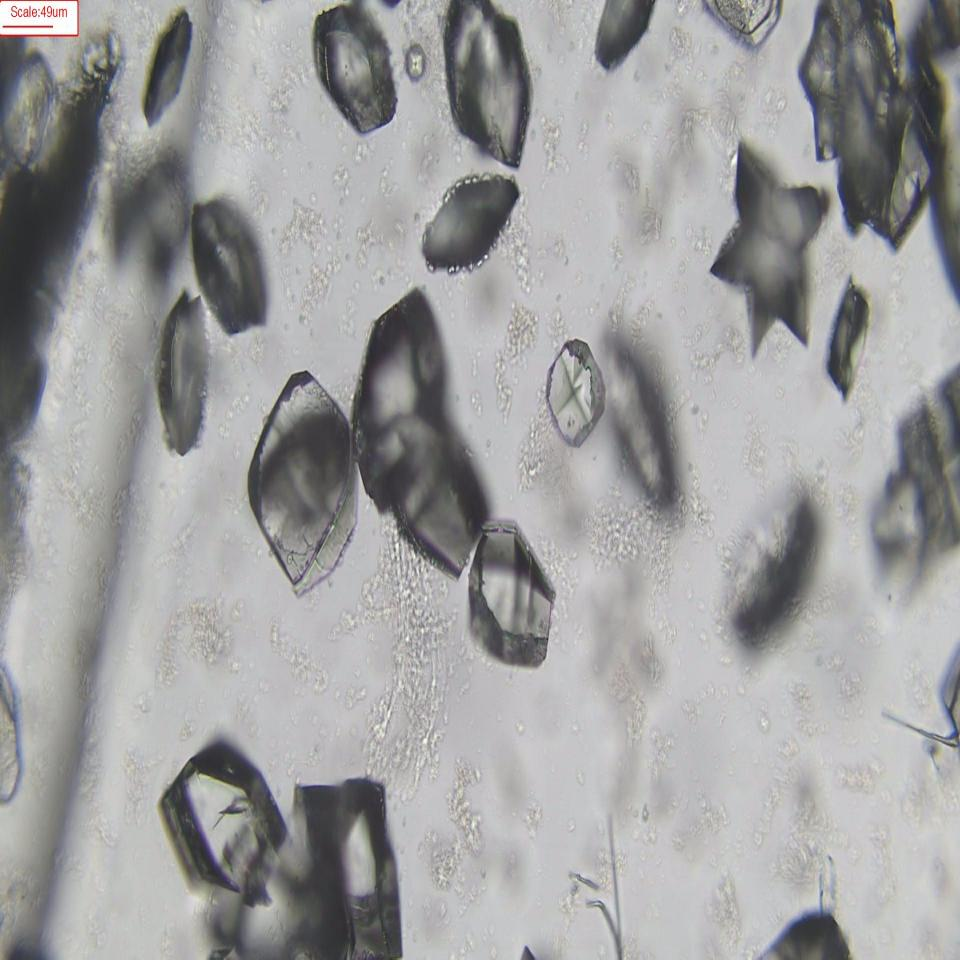crystal: (251, 377, 362, 592), (156, 731, 285, 915), (438, 0, 535, 170), (415, 174, 533, 287), (188, 189, 272, 343), (473, 522, 556, 666), (154, 289, 217, 472), (313, 5, 398, 133), (143, 15, 198, 134), (827, 274, 873, 400), (548, 342, 605, 442), (401, 42, 434, 86)
not_crystal: (355, 302, 480, 558), (804, 0, 913, 237)
